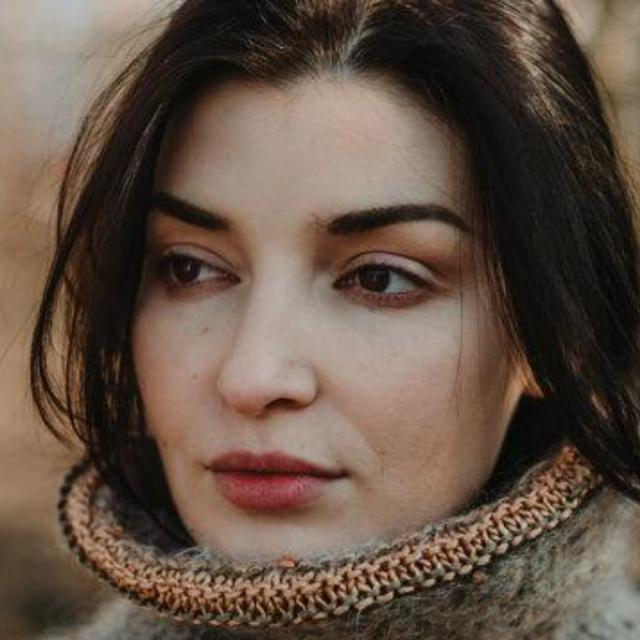Natural: (103, 118, 562, 640)
